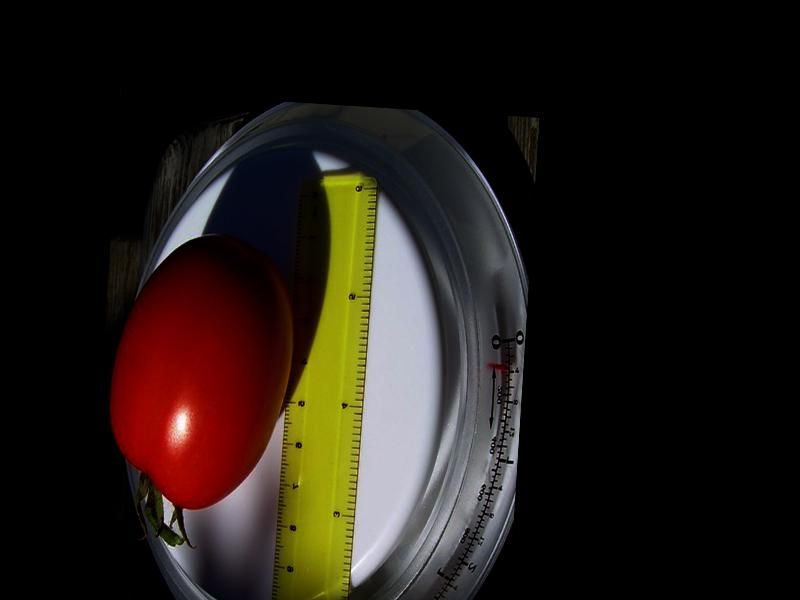Tomato: (101, 230, 304, 516)
